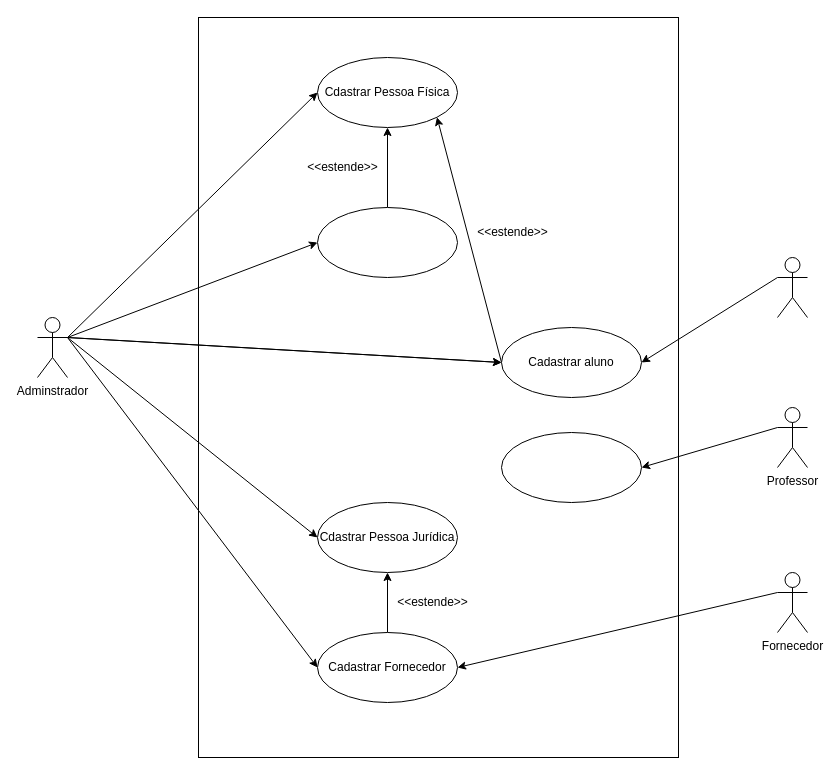
Image size: 840x775. Some labels were removed from this diagram. Here are the shapes that lost their labels. From the top down, the box of each, then its label:
(316, 206, 458, 278): Cadastrar professor
(776, 256, 808, 318): Aluno
(500, 432, 642, 502): Lançar notas
